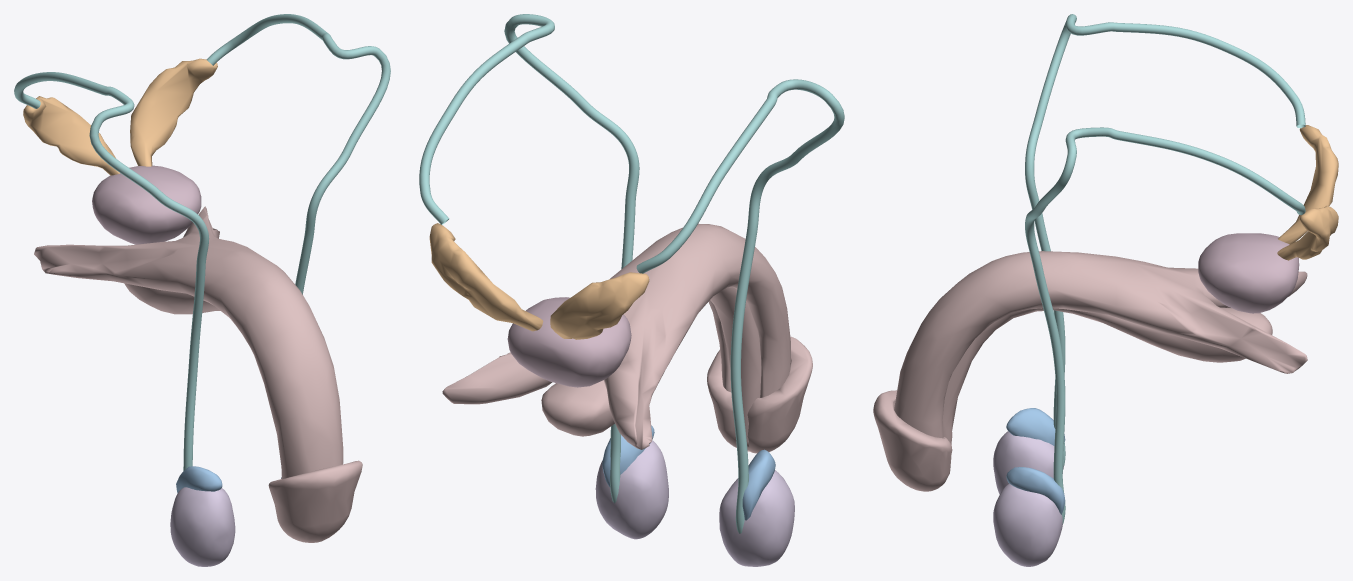
File: reproductive-male.glb
3 views of the same model, side by side, from view 1: azimuth 30°, elevation 25°; view 2: azimuth 150°, elevation 25°; view 3: azimuth 270°, elevation 25° (orthographic). The views are drawn at different scales.
Visible parts, largest first — view 1: Corpus cavernosum of penis.001, Prostate.001, Ductus deferens.r.001, Glans penis.001, Seminal gland.l.001, Ductus deferens.l.001, Testis.r.001, Seminal gland.r.001, Corpus spongiosum of penis.001, Epididymis.r.001; view 2: Corpus cavernosum of penis.001, Ductus deferens.r.001, Ductus deferens.l.001, Prostate.001, Corpus spongiosum of penis.001, Glans penis.001, Testis.r.001, Testis.l.001, Seminal gland.l.001, Seminal gland.r.001, Epididymis.r.001, Epididymis.l.001; view 3: Corpus cavernosum of penis.001, Prostate.001, Ductus deferens.l.001, Ductus deferens.r.001, Corpus spongiosum of penis.001, Glans penis.001, Testis.l.001, Seminal gland.r.001, Testis.r.001, Seminal gland.l.001, Epididymis.l.001, Epididymis.r.001.
Boxes of the visible parts, x1,y1,x2,y2 form: Corpus cavernosum of penis.001: [34, 206, 343, 479]; Prostate.001: [92, 165, 201, 244]; Ductus deferens.r.001: [14, 72, 209, 470]; Glans penis.001: [268, 460, 362, 542]; Seminal gland.l.001: [130, 58, 217, 166]; Ductus deferens.l.001: [206, 14, 390, 294]; Testis.r.001: [170, 487, 235, 566]; Seminal gland.r.001: [23, 96, 119, 175]; Corpus spongiosum of penis.001: [124, 283, 220, 314]; Epididymis.r.001: [176, 466, 222, 493]; Corpus cavernosum of penis.001: [442, 223, 790, 449]; Ductus deferens.r.001: [636, 79, 844, 533]; Ductus deferens.l.001: [419, 14, 639, 503]; Prostate.001: [507, 297, 631, 387]; Corpus spongiosum of penis.001: [541, 287, 761, 447]; Glans penis.001: [707, 336, 812, 453]; Testis.r.001: [719, 470, 794, 566]; Testis.l.001: [595, 440, 668, 539]; Seminal gland.l.001: [429, 223, 543, 331]; Seminal gland.r.001: [550, 272, 649, 339]; Epididymis.r.001: [742, 449, 775, 520]; Epididymis.l.001: [602, 425, 654, 486]; Corpus cavernosum of penis.001: [894, 251, 1307, 438]; Prostate.001: [1198, 233, 1299, 313]; Ductus deferens.l.001: [1025, 127, 1305, 524]; Ductus deferens.r.001: [1025, 14, 1305, 469]; Corpus spongiosum of penis.001: [942, 307, 1272, 474]; Glans penis.001: [873, 390, 952, 491]; Testis.l.001: [993, 483, 1062, 566]; Seminal gland.r.001: [1278, 125, 1338, 244]; Testis.r.001: [993, 431, 1063, 494]; Seminal gland.l.001: [1277, 206, 1338, 260]; Epididymis.l.001: [1006, 467, 1065, 514]; Epididymis.r.001: [1006, 408, 1065, 445].
Bounding box in the file's own units: 0.1123 × 0.1654 × 0.151.
